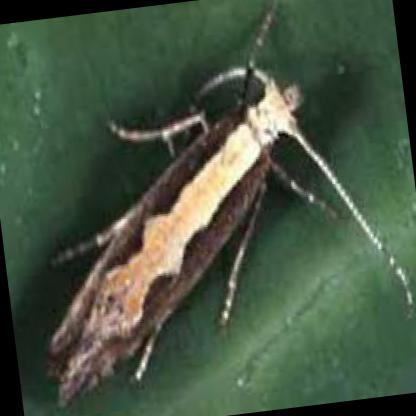plutella: (32, 0, 414, 416)
